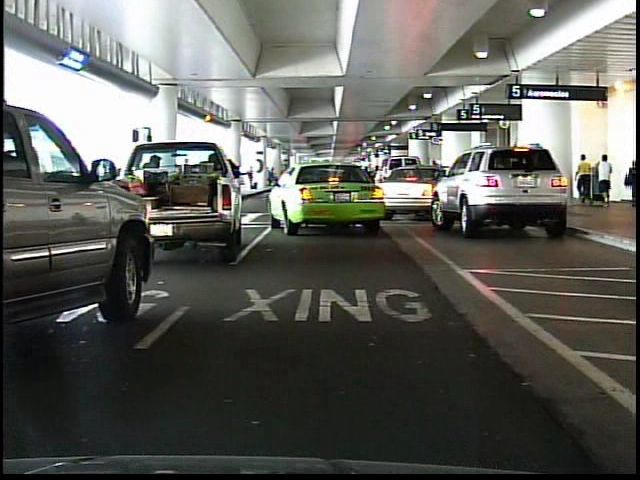person: (597, 152, 615, 208), (577, 151, 595, 207), (621, 159, 636, 210)
